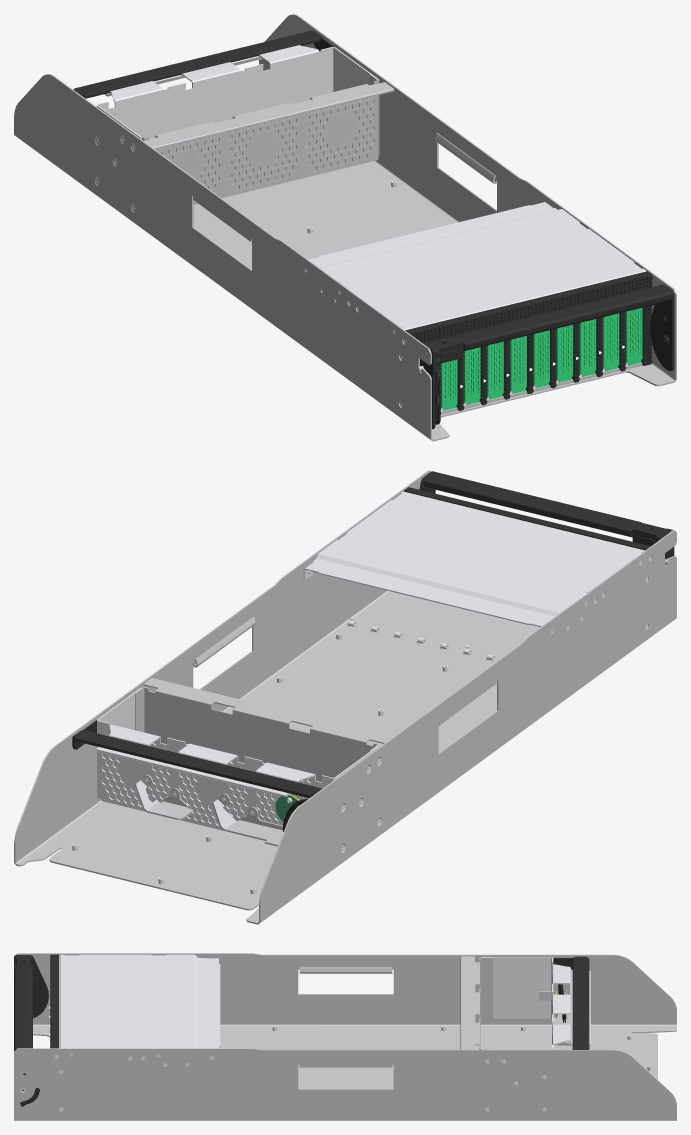
The model's file is cosmo-ext-0.glb.
The picture shows the model from 3 angles, top to bottom: view 1: azimuth 30°, elevation 25°; view 2: azimuth 150°, elevation 25°; view 3: azimuth 270°, elevation 25°; orthographic projection. The views are drawn at different scales.
Visible parts, largest first — view 1: Frame_low.004_block.006, Plane.024, Plane.023, Plane.025, Plane.026, Plane.019, Plane.020, Plane.021, Plane.022, Plane.018; view 2: Frame_low.004_block.006; view 3: Frame_low.004_block.006.
Boxes of the visible parts, bbox=[...] form: Frame_low.004_block.006: bbox=[14, 14, 676, 441]; Plane.024: bbox=[579, 319, 596, 376]; Plane.023: bbox=[556, 324, 573, 382]; Plane.025: bbox=[602, 313, 619, 371]; Plane.026: bbox=[625, 307, 642, 365]; Plane.019: bbox=[463, 347, 480, 404]; Plane.020: bbox=[486, 341, 503, 399]; Plane.021: bbox=[509, 336, 526, 393]; Plane.022: bbox=[533, 330, 549, 388]; Plane.018: bbox=[440, 359, 457, 410]; Frame_low.004_block.006: bbox=[14, 470, 676, 924]; Frame_low.004_block.006: bbox=[14, 953, 676, 1120].
Bounding box in the file's own units: 0.2659 × 0.0928 × 0.765.
